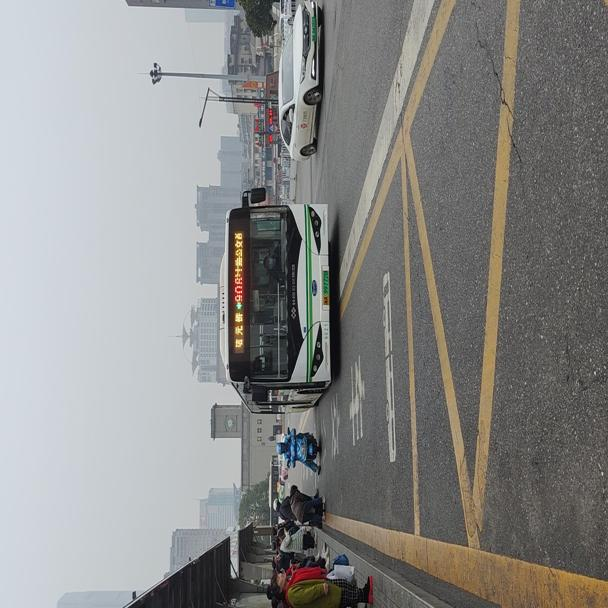bus: (215, 185, 334, 410)
screen: (230, 271, 243, 304)
